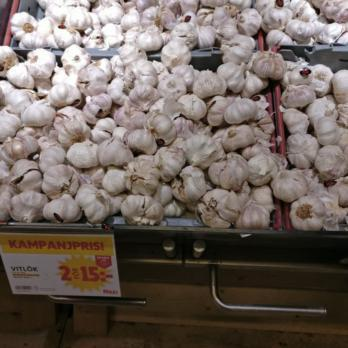Garlic: (0, 2, 348, 227)
